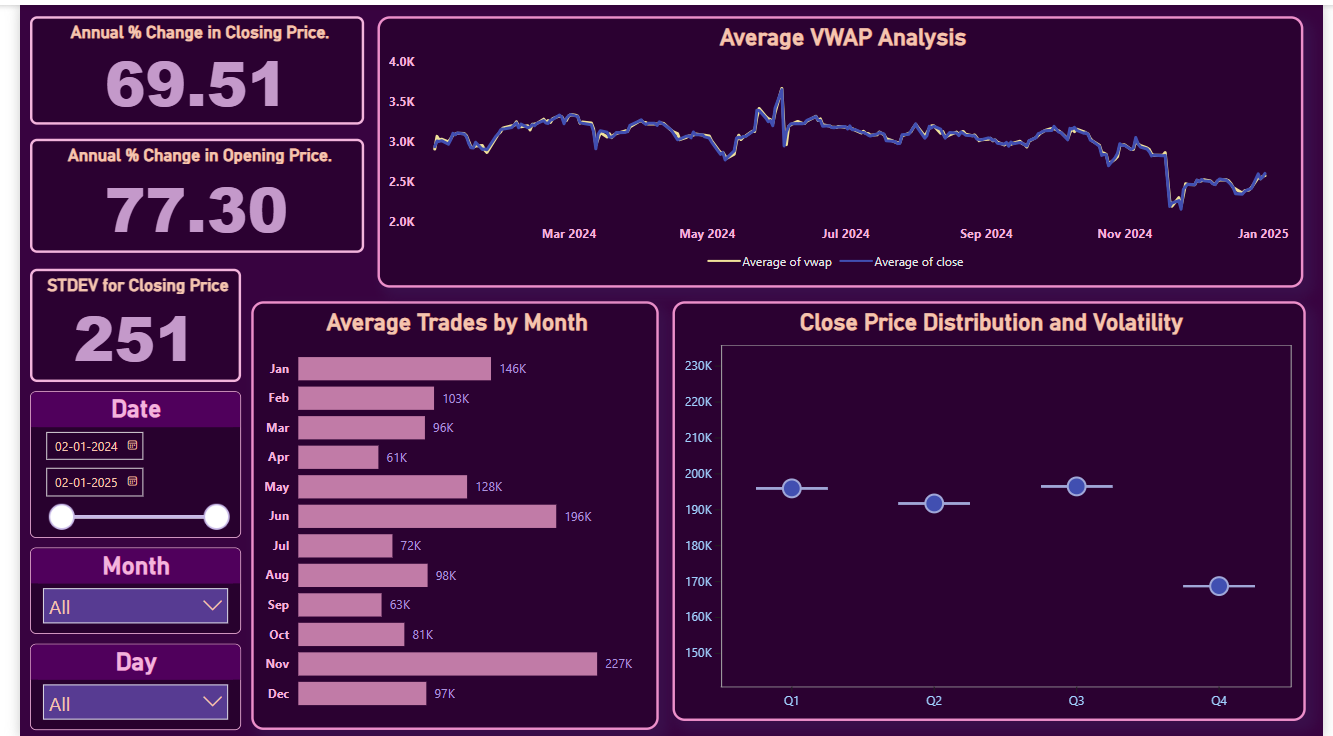

This screenshot's page, from the dashboard's own definition file:
{"tool":"powerbi","page":{"name":"Page 2","canvas":[1280,720],"ordinal":1},"visuals":[{"type":"clusteredBarChart","title":"Average Trades  by Month","fields":{"Y":["Avg(Adani.No of trades )"],"Category":["Calender.Month"]},"box":[226.9,291.1,399.6,420.6],"z":1000},{"type":"card","title":"Annual % Change in Closing Price.","fields":{"Values":["Adani.Annual_%_change_close"]},"box":[9.9,11.1,328.1,106.1],"z":2000},{"type":"card","title":"Annual % Change in Opening Price.","fields":{"Values":["Adani.Annual_%_change_open"]},"box":[9.9,130.7,328.1,112.2],"z":3000},{"type":"lineChart","title":"Average VWAP Analysis","fields":{"Y":["Avg(Adani.vwap )","Avg(Adani.close )"],"Category":["Calender.Date.Variation.Date Hierarchy.Year","Calender.Date.Variation.Date Hierarchy.Quarter","Calender.Date.Variation.Date Hierarchy.Month","Calender.Date.Variation.Date Hierarchy.Day"]},"box":[351.5,11.1,909,266.4],"z":4000},{"type":"BoxandWhiskerByMAQ1823AD39DT234AB532063E128AX","title":"Close Price Distribution and Volatility","fields":{"categoryGroup":["Calender.Quarter"],"measure":["Sum(Adani.close )"]},"box":[640.1,291.1,621.6,411.9],"z":4001},{"type":"slicer","title":"Month","fields":{"Values":["Calender.Month"]},"box":[9.9,532.8,207.2,85.1],"z":4002},{"type":"slicer","title":"Date","fields":{"Values":["Adani.Date "]},"box":[9.9,378.6,207.2,144.3],"z":4003},{"type":"slicer","title":"Day","fields":{"Values":["Adani.Day"]},"box":[9.9,626.6,207.2,85.1],"z":4004},{"type":"card","title":"STDEV for Closing Price","fields":{"Values":["Adani.stddev_close"]},"box":[9.9,259,207.2,111],"z":4005}]}

Visuals, with their boxes in screenshot pixels (x1, y1, x2, y2), scaled from the page's 1280x720 canvas onto the 1333x736 screenshot:
"Average Trades  by Month" clusteredBarChart: (236, 298, 652, 728)
"Annual % Change in Closing Price." card: (10, 11, 352, 120)
"Annual % Change in Opening Price." card: (10, 134, 352, 248)
"Average VWAP Analysis" lineChart: (366, 11, 1313, 284)
"Close Price Distribution and Volatility" BoxandWhiskerByMAQ1823AD39DT234AB532063E128AX: (667, 298, 1314, 719)
"Month" slicer: (10, 545, 226, 632)
"Date" slicer: (10, 387, 226, 535)
"Day" slicer: (10, 641, 226, 728)
"STDEV for Closing Price" card: (10, 265, 226, 378)
